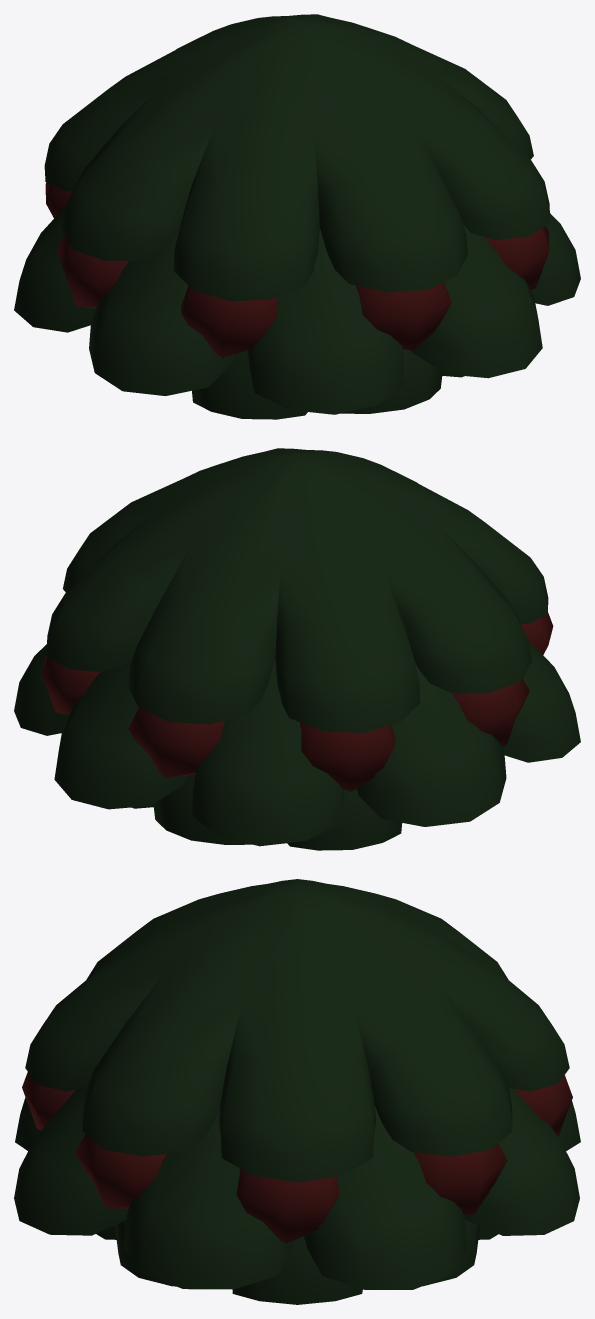
The model's file is Bush_Fruit.fbx.
3 views of the same model, one above another, from view 1: azimuth 30°, elevation 25°; view 2: azimuth 150°, elevation 25°; view 3: azimuth 270°, elevation 25° (orthographic). The views are drawn at different scales.
Parts seen in each view (by area): view 1: Bush_Fruit; view 2: Bush_Fruit; view 3: Bush_Fruit.
Boxes of the visible parts, <box> form: Bush_Fruit: <box>14,14,580,419</box>; Bush_Fruit: <box>14,448,580,850</box>; Bush_Fruit: <box>14,879,580,1304</box>.
Size of the model in its own units: 352 by 223 by 353.
